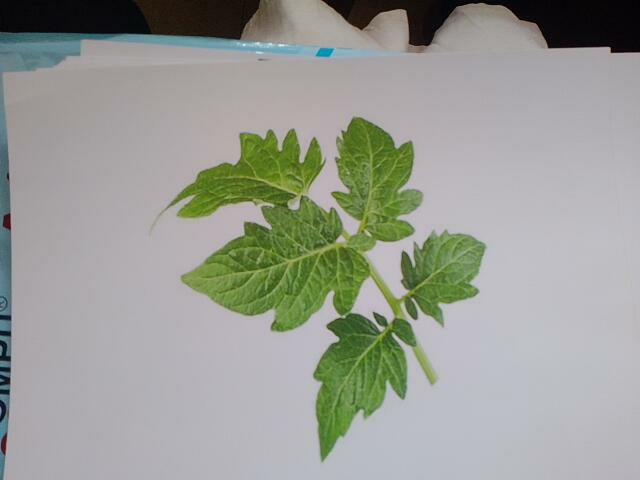Grape_Blight_Leaf: (253, 77, 520, 358)
